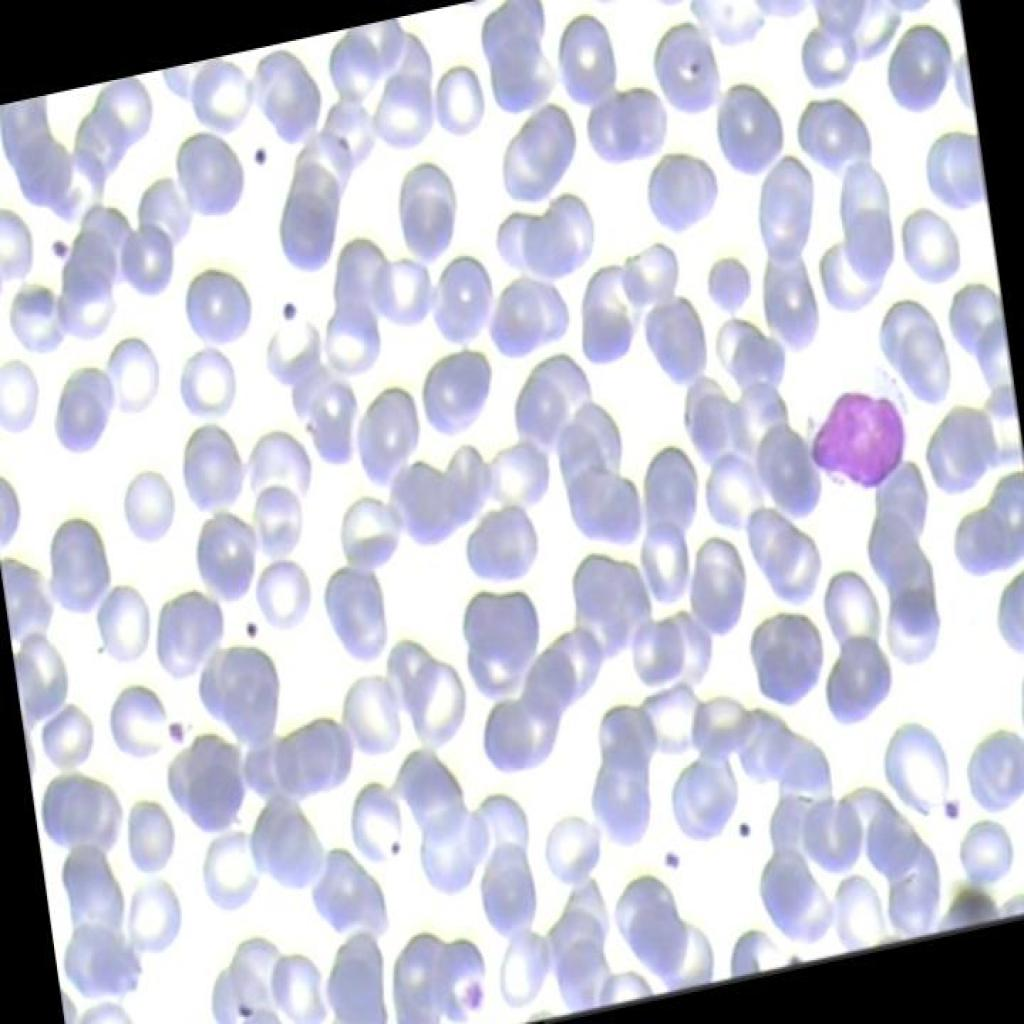Limfosit: (794, 350, 917, 507)
Platelet: (442, 966, 491, 1022), (269, 279, 316, 336), (149, 702, 195, 756), (932, 782, 977, 832), (226, 602, 269, 652), (239, 128, 276, 183), (727, 804, 758, 855), (40, 224, 71, 263), (659, 830, 684, 873)
